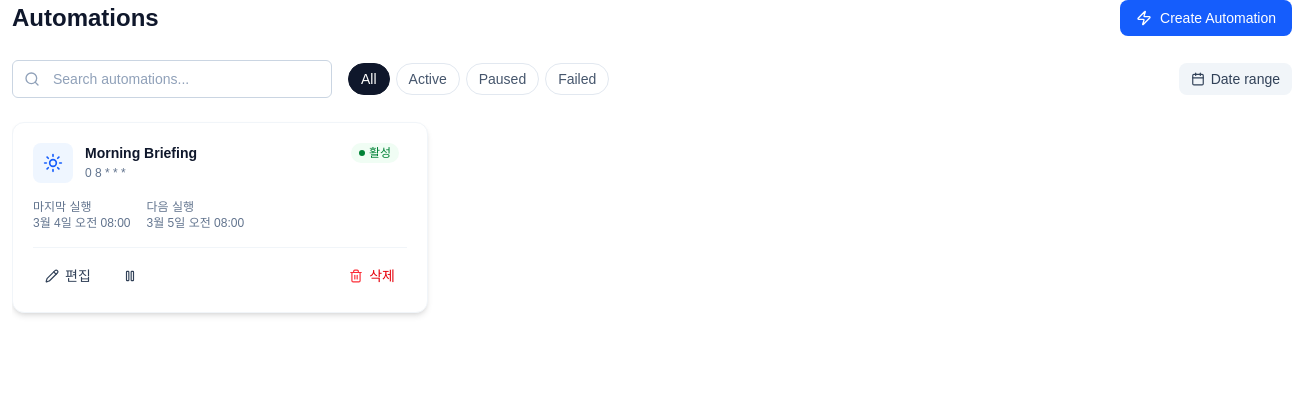
Automation Toggle — TC-3012, TC-3013 › error handling: API error shows toast/notification with error message
Click the button named "morning briefing 일시정지".
click(130, 276)  # box x1=111 y1=260 x2=149 y2=292
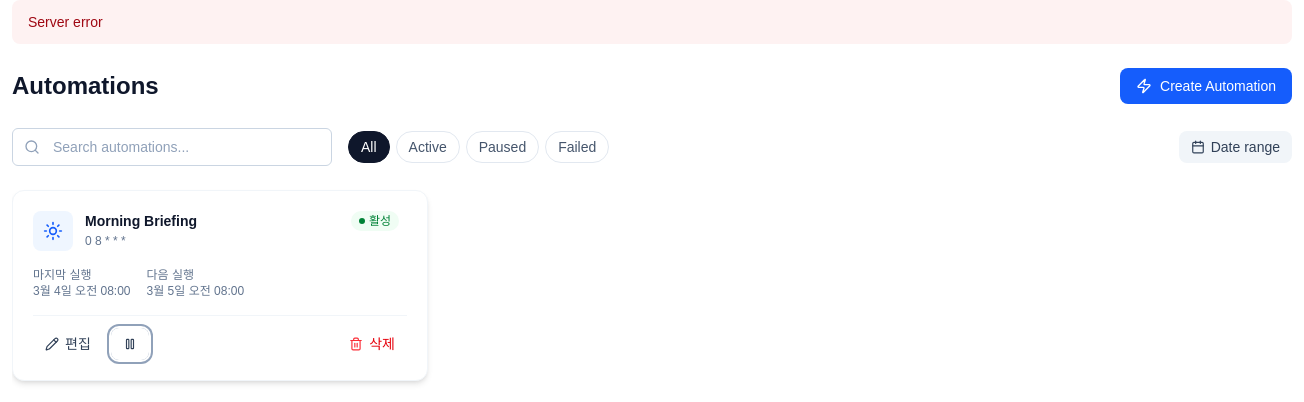
expect the message reads "Server error": met, box x1=28 y1=14 x2=103 y2=30
